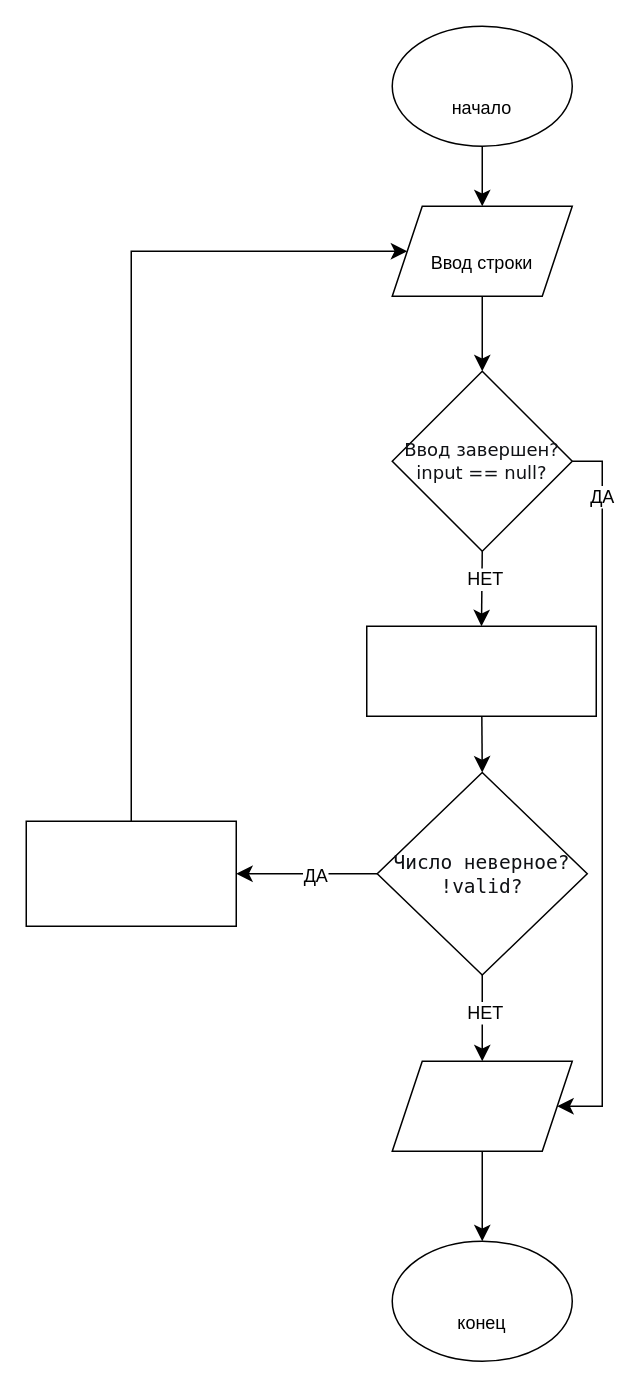
Image size: 644x1388. Some labels were removed from this diagram. Each missing label, with the centre of its shape:
«Ошибка ввода»: [130,873]
Вывод «Принято:N»: [481,1105]
Проверка числа: TryParse && 1-30: [480,670]
